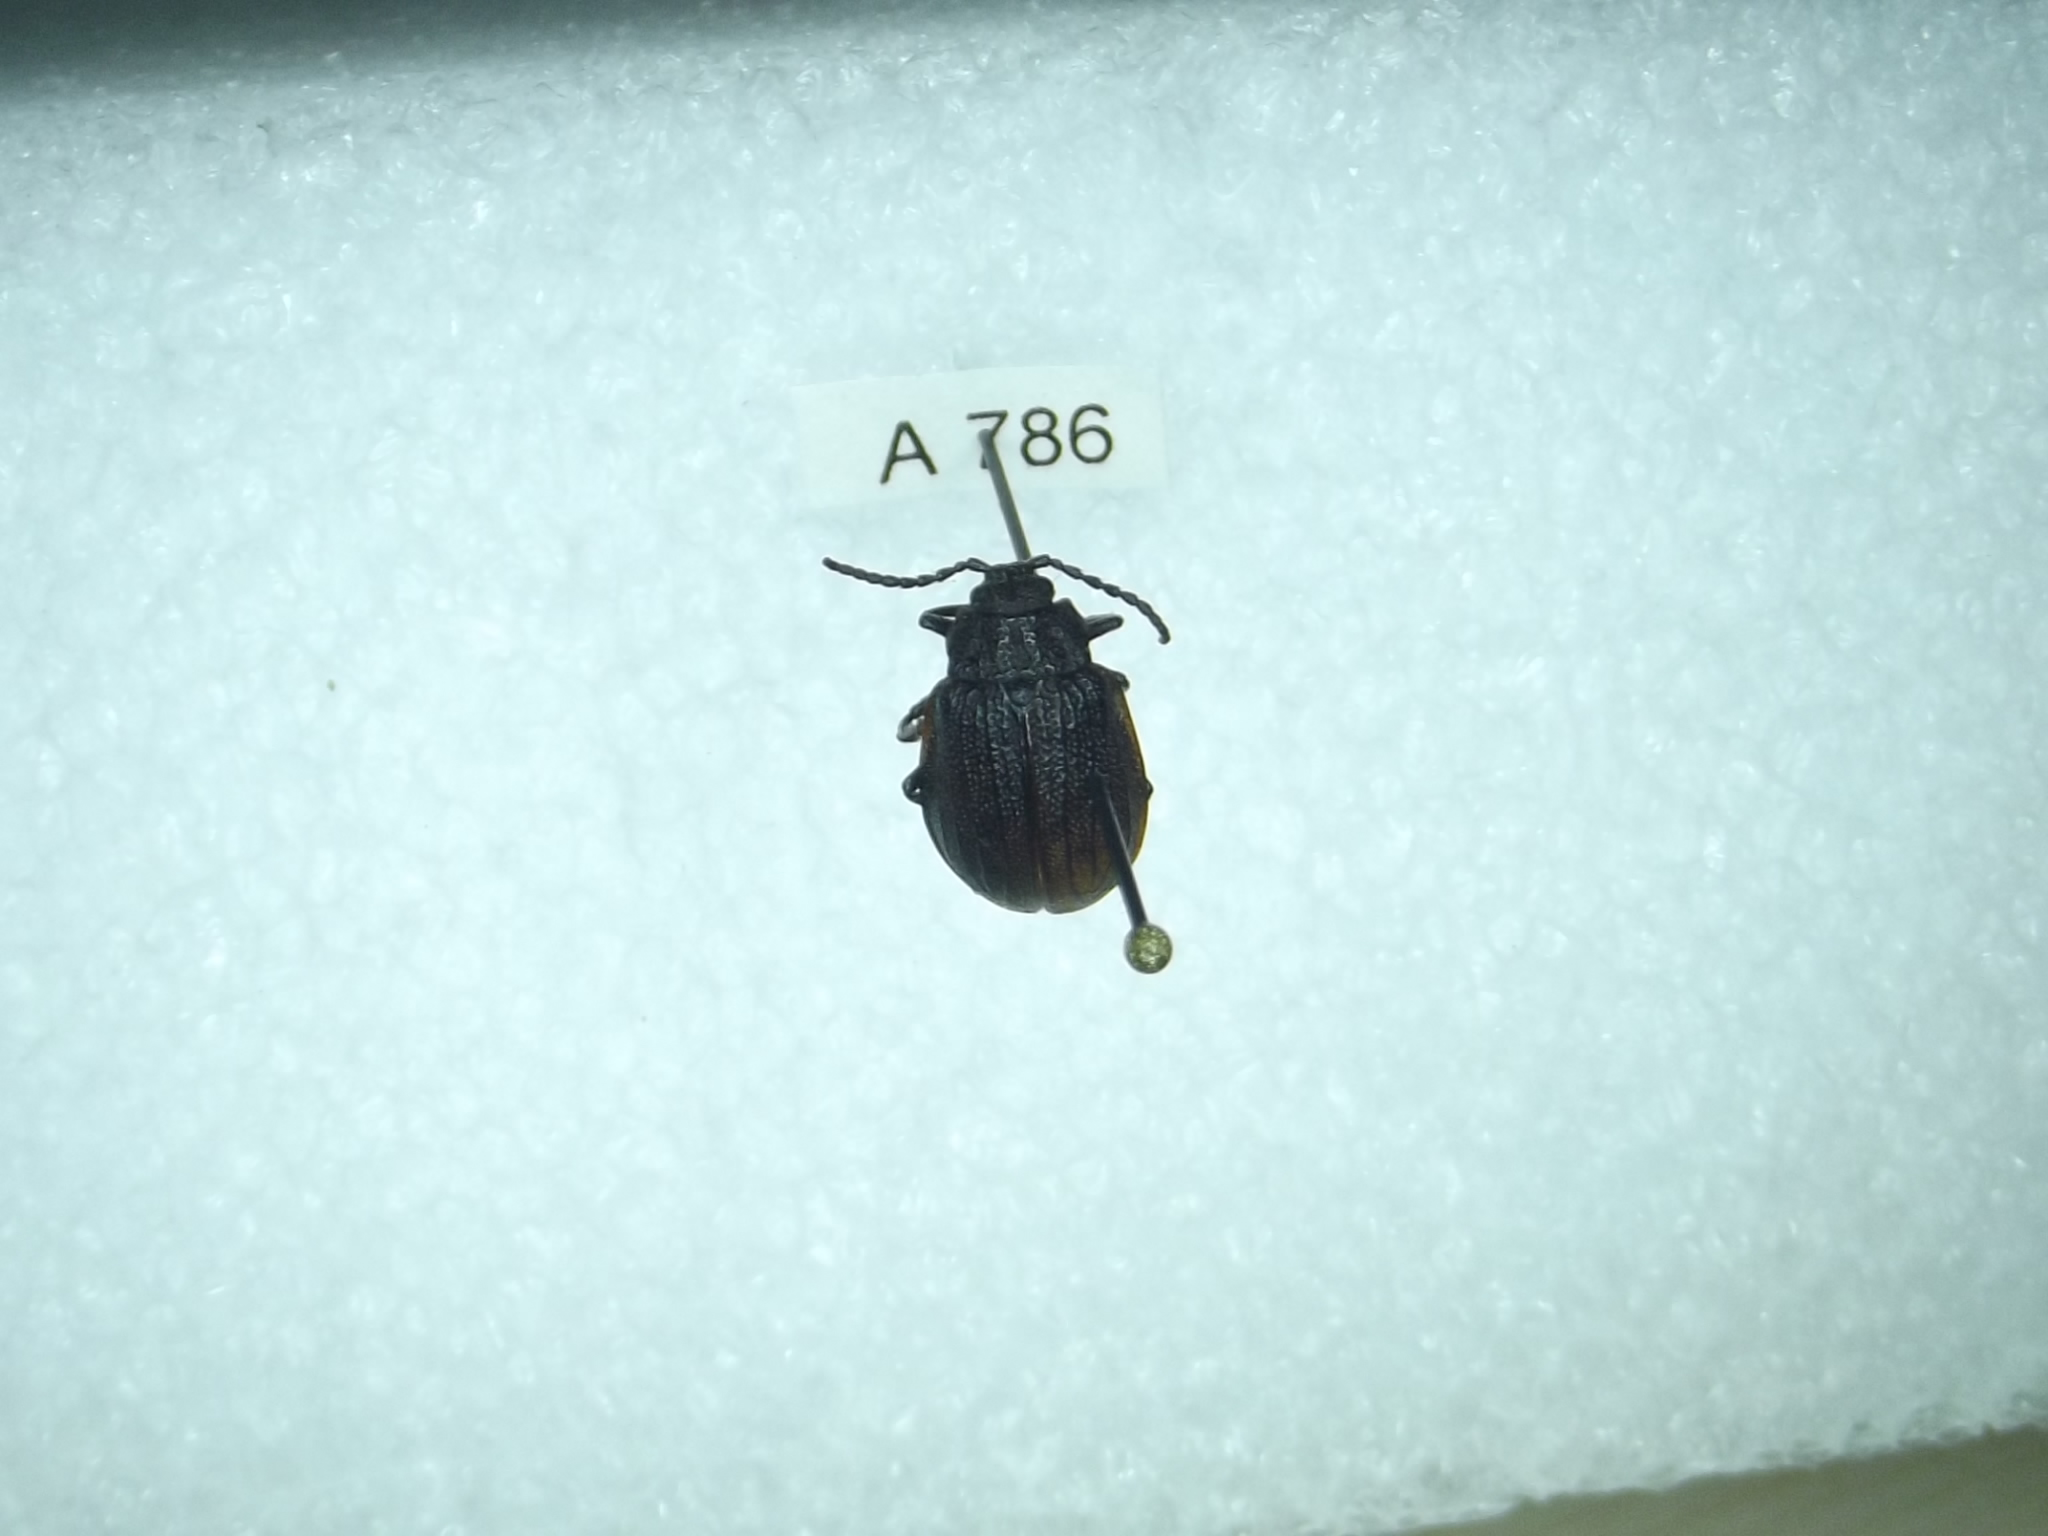Galeruca_tanaceti: (818, 541, 1176, 918)
